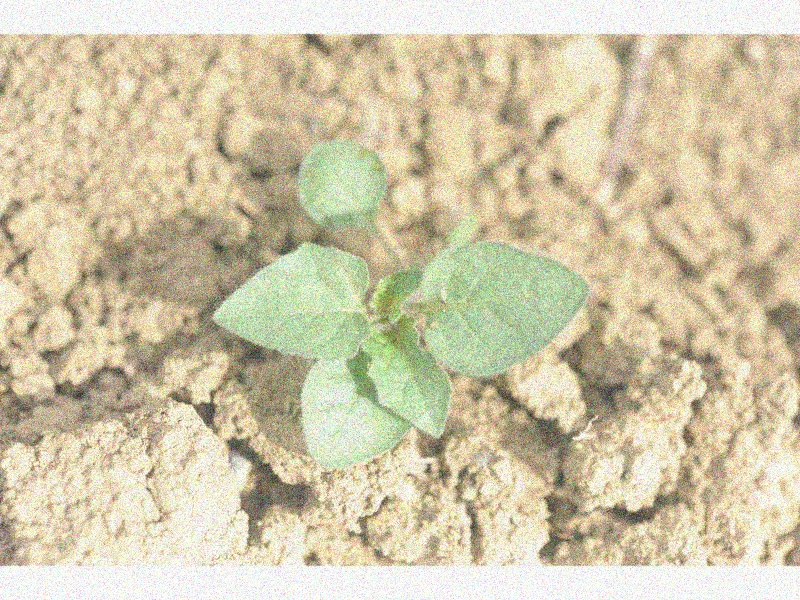nightshade: (212, 141, 590, 471)
